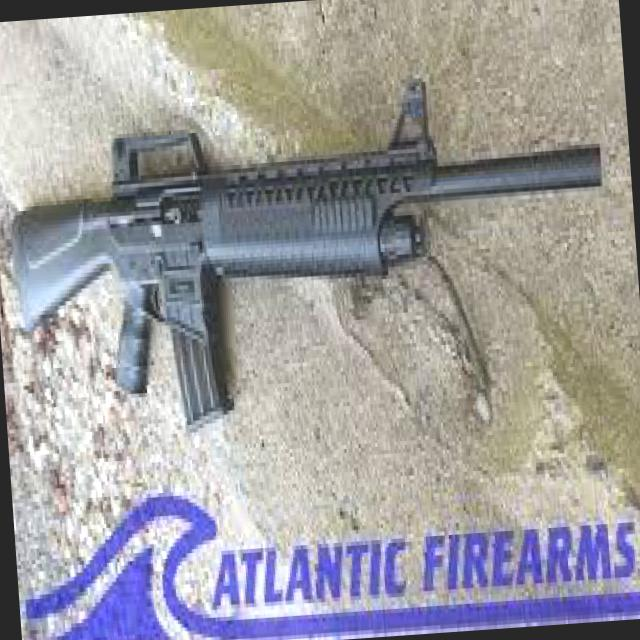long weapon: (0, 90, 625, 440)
